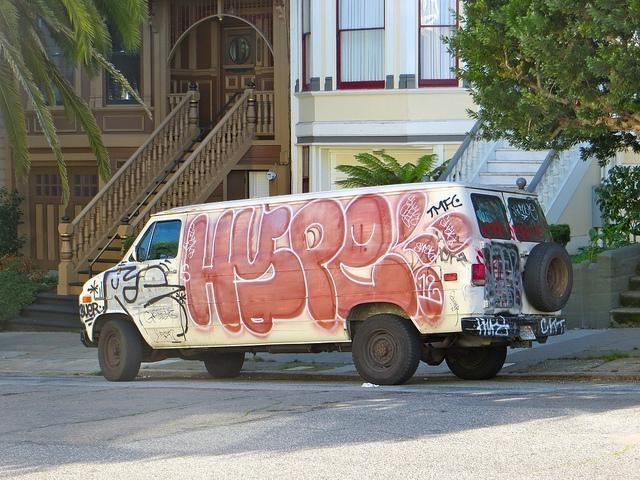truck: (75, 182, 572, 387)
